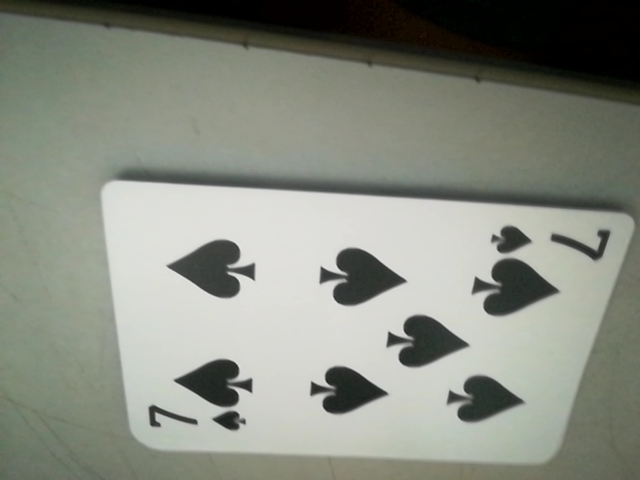ht 7: (139, 400, 250, 444)
